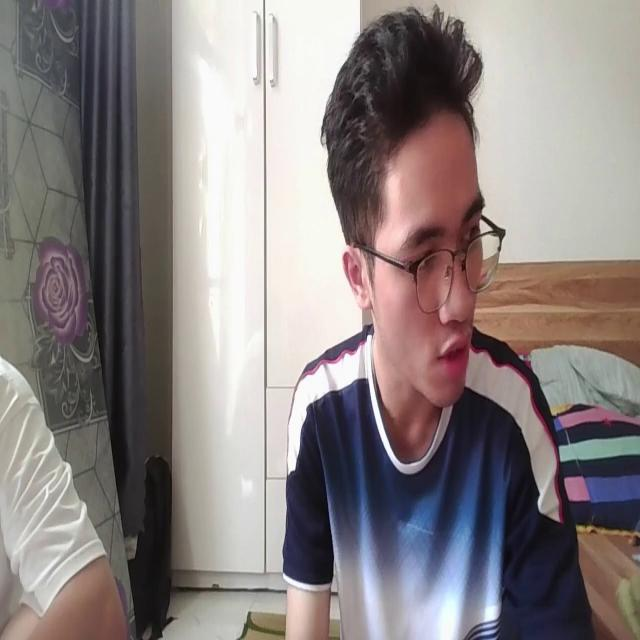student: (280, 6, 590, 640)
